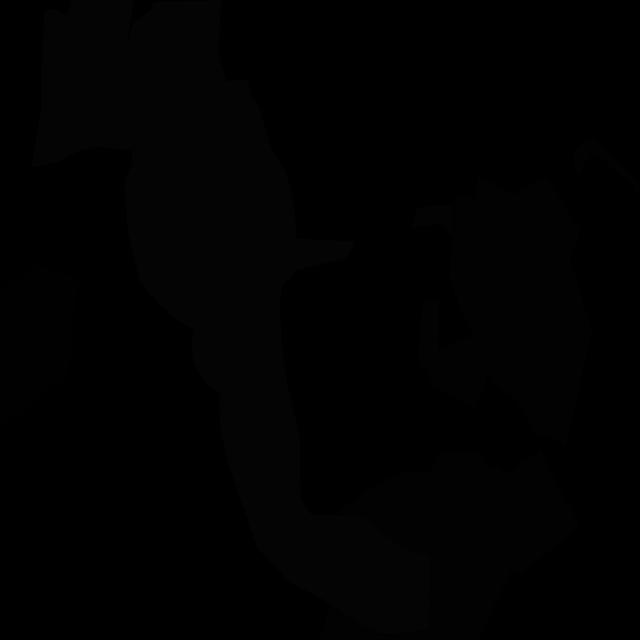cardboard: (320, 450, 580, 640), (449, 175, 592, 451), (418, 299, 488, 410), (572, 135, 639, 198)
metal: (411, 205, 454, 238)
rigid_plastic: (0, 265, 79, 429)
soft_plastic: (124, 0, 430, 635), (31, 0, 146, 167)
